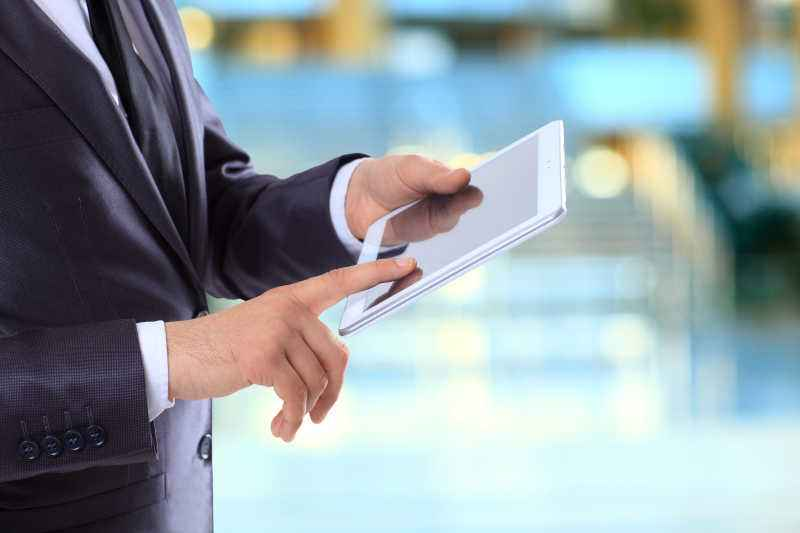pad: (252, 118, 572, 442)
